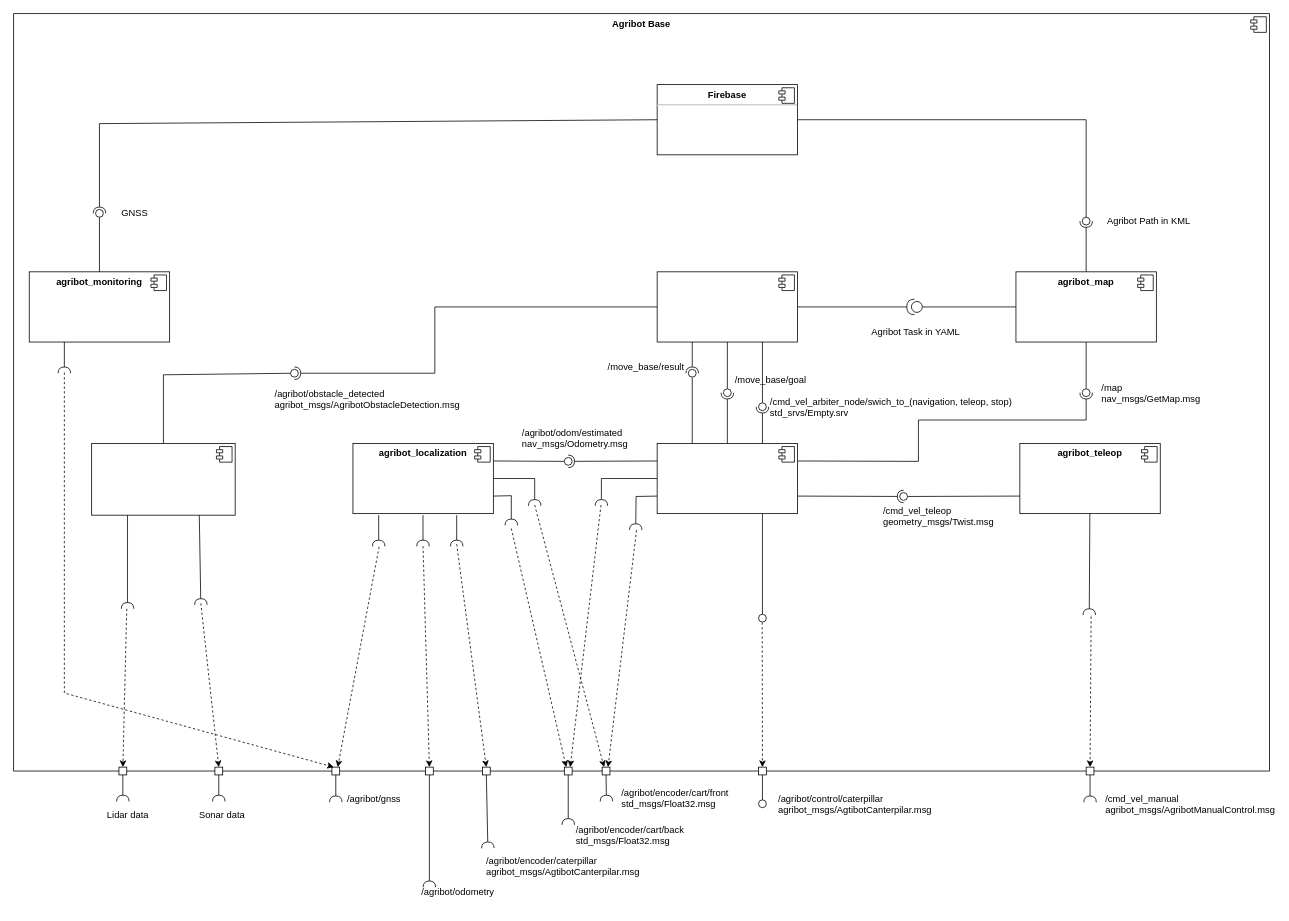
Image size: 1289x921. Some labels were removed from this diagram. The centre of each missing label's shape, as x and y in pixels:
"agribot_commander" belongs at [727,306].
"agribot_navigation" belongs at [727,478].
"agribot_obstacle_detection" belongs at [163,479].
